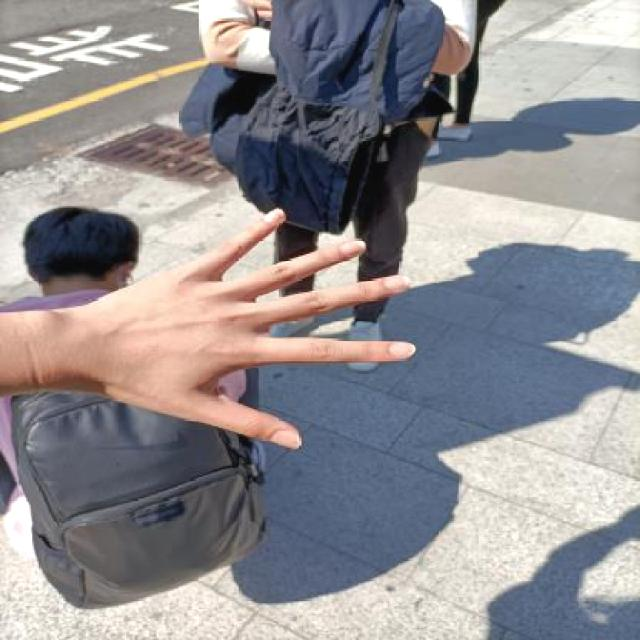no_glove: (62, 203, 430, 459)
